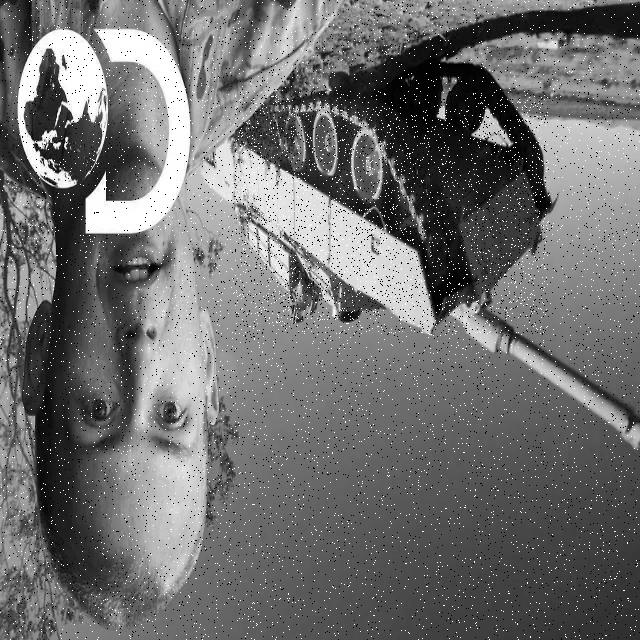MIL_MBT: (236, 91, 548, 334)
